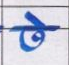e_matra: (25, 11, 47, 26)
